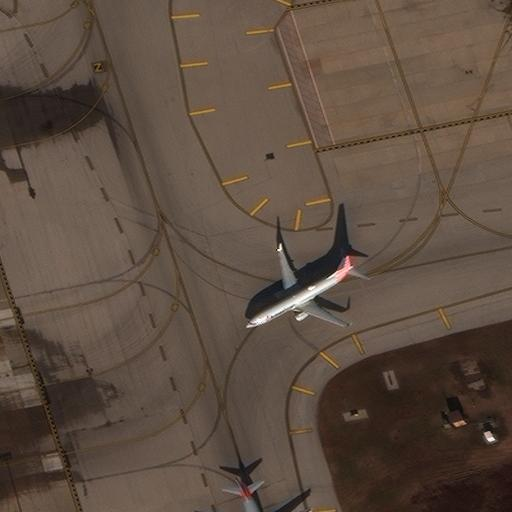Medium Civil Transport: (245, 249, 353, 328), (214, 477, 309, 512)
